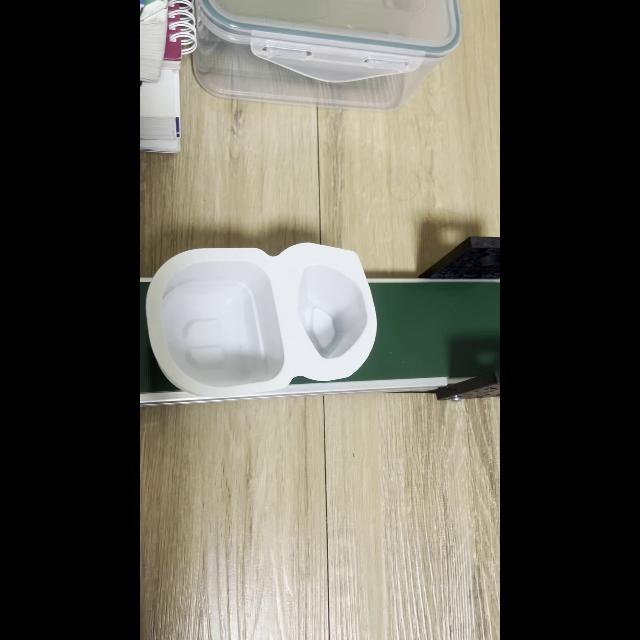clean: (147, 246, 377, 396)
